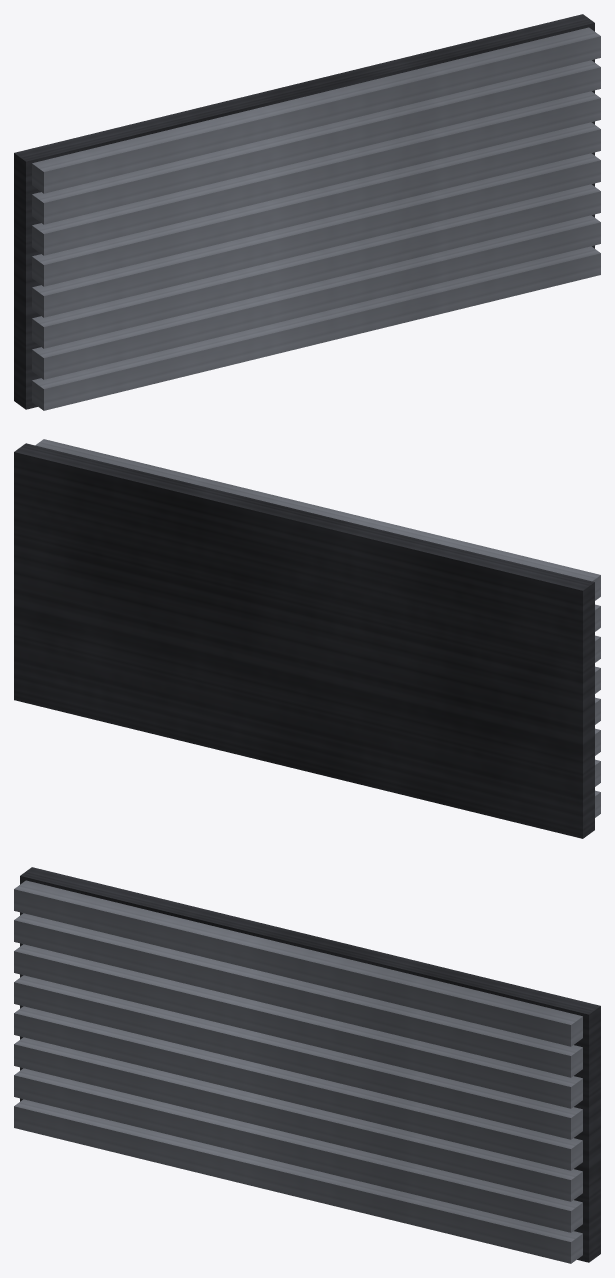
File: SafeShutter.fbx
The picture shows the model from 3 angles, top to bottom: view 1: azimuth 30°, elevation 25°; view 2: azimuth 150°, elevation 25°; view 3: azimuth 330°, elevation 25°; orthographic projection.
Parts seen in each view (by area): view 1: SafeShutter; view 2: SafeShutter; view 3: SafeShutter.
Boxes of the visible parts, left/top/right/bottom form: SafeShutter: left=14, top=14, right=600, bottom=410; SafeShutter: left=14, top=439, right=600, bottom=838; SafeShutter: left=14, top=867, right=600, bottom=1263.
Bounding box in the file's own units: 0.96 × 0.4 × 0.07.
Materials: 2 (2 with a texture image).
